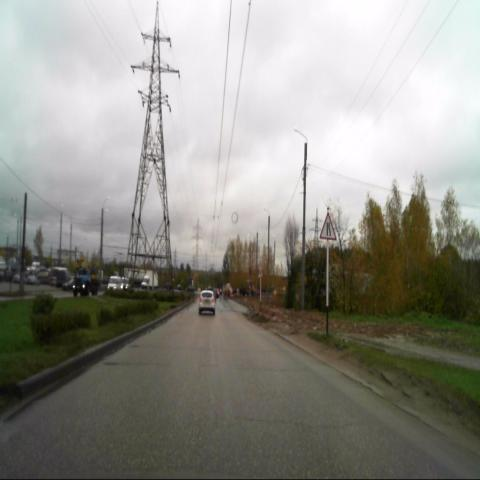1_20_2: (320, 212, 336, 242)
